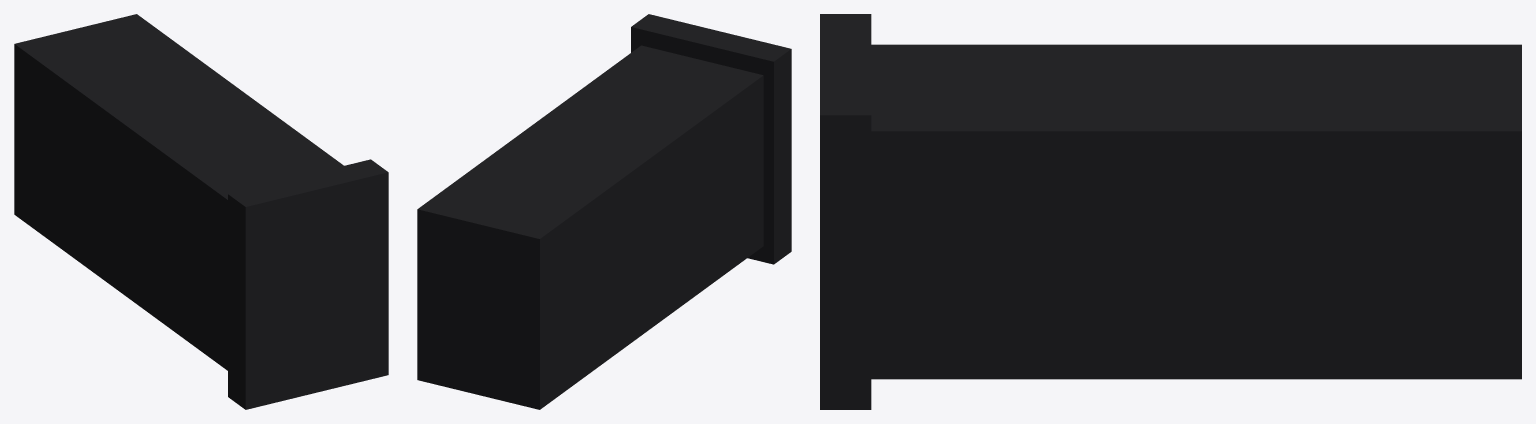
File: Prodigy_Mag20.fbx
The picture shows the model from 3 angles, left to right: view 1: azimuth 30°, elevation 25°; view 2: azimuth 150°, elevation 25°; view 3: azimuth 270°, elevation 25°; orthographic projection. The views are drawn at different scales.
Visible parts, largest first — view 1: prims; view 2: prims; view 3: prims.
Part boxes in pixels (<box>): prims: <box>14,14,388,409</box>; prims: <box>417,14,791,409</box>; prims: <box>820,14,1521,409</box>.
Size of the model in its own units: 0.0168 by 0.0228 by 0.0492.
